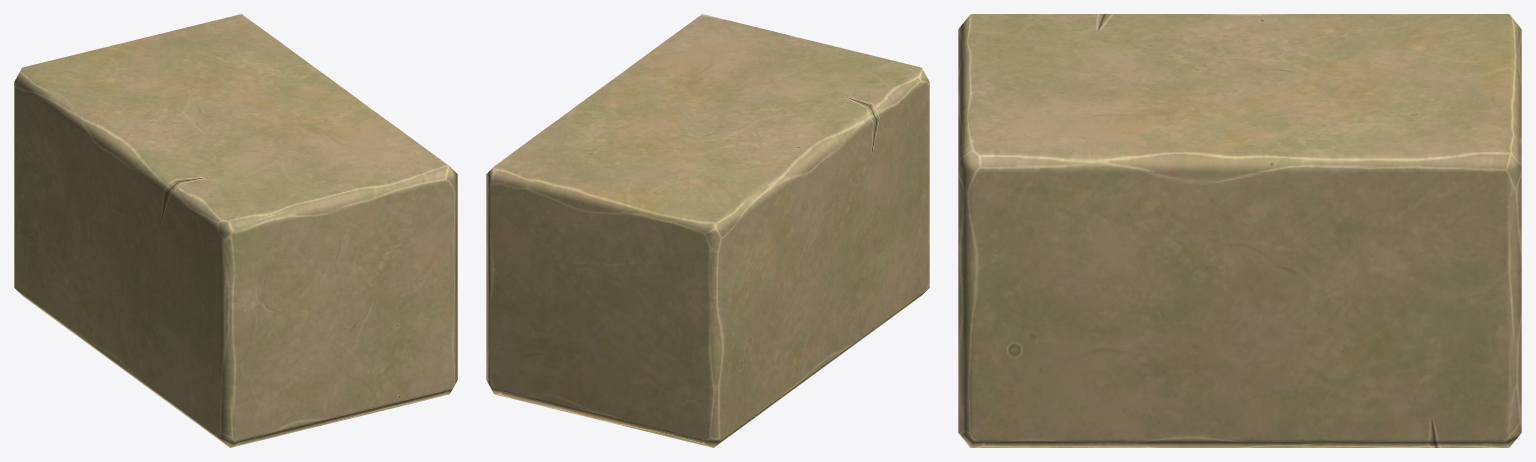
The model's file is SM_Brick_2.fbx.
The picture shows the model from 3 angles, left to right: view 1: azimuth 30°, elevation 25°; view 2: azimuth 150°, elevation 25°; view 3: azimuth 270°, elevation 25°; orthographic projection. The views are drawn at different scales.
Visible parts, largest first — view 1: SM_Brick_2_LOD0; view 2: SM_Brick_2_LOD0; view 3: SM_Brick_2_LOD0.
Boxes of the visible parts, bbox=[...] form: SM_Brick_2_LOD0: bbox=[14, 14, 457, 447]; SM_Brick_2_LOD0: bbox=[486, 14, 929, 447]; SM_Brick_2_LOD0: bbox=[958, 14, 1521, 447].
Bounding box in the file's own units: 54.6 × 86.47 × 50.
1 material, 1 textured.
